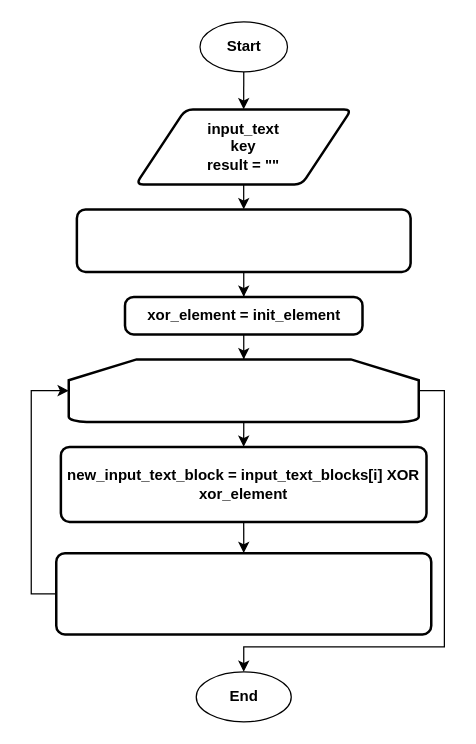
The diagram is 476 pixels wide and 744 high, and some of its shapes have lost their labels. Here are the shapes that lost their labels. From the top down, the box of each, then its label:
(75, 208, 411, 272): input_text_blocks = split(text=input_text, block_size=64)
(67, 358, 419, 422): for (int i = 0; i < len(input_text_blocks); i++)
(54, 551, 432, 635): xor_element = DES(new_input_text_block, key) result += xor_element
